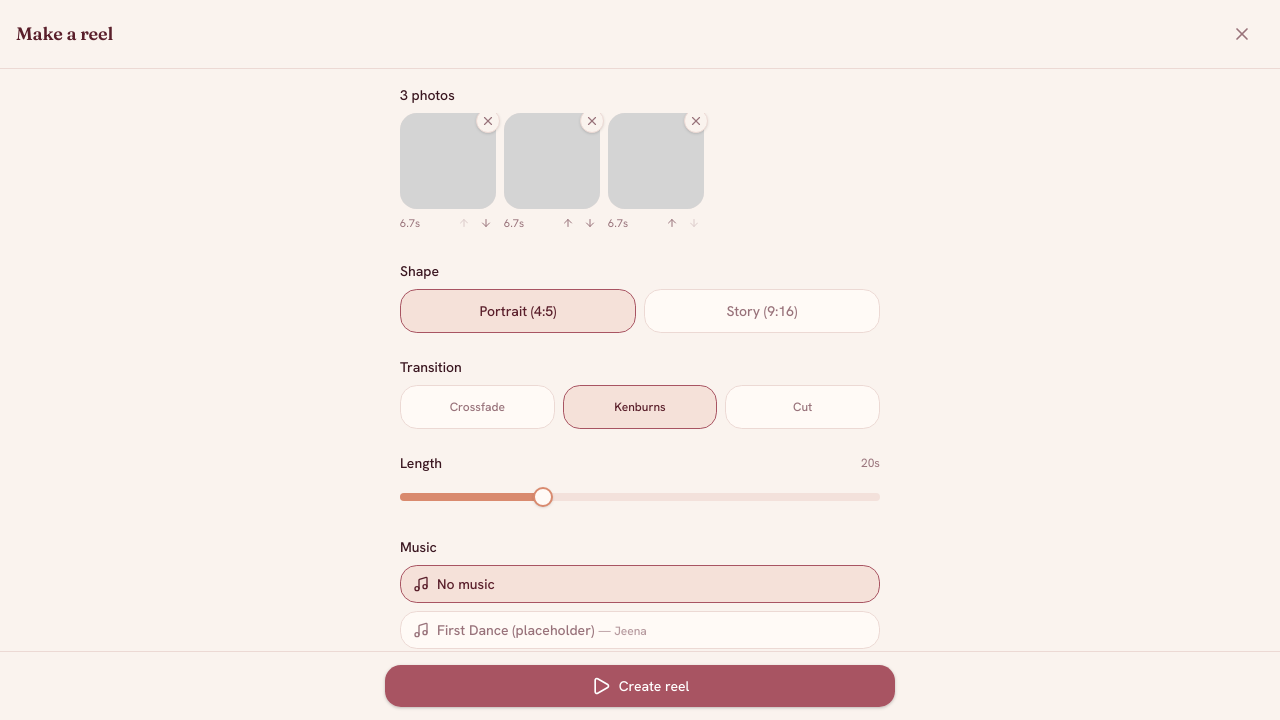
ReelMaker › moving the length slider updates the per-photo duration hint
Set the slider to "30" at (543,497), box [535, 489, 551, 505]
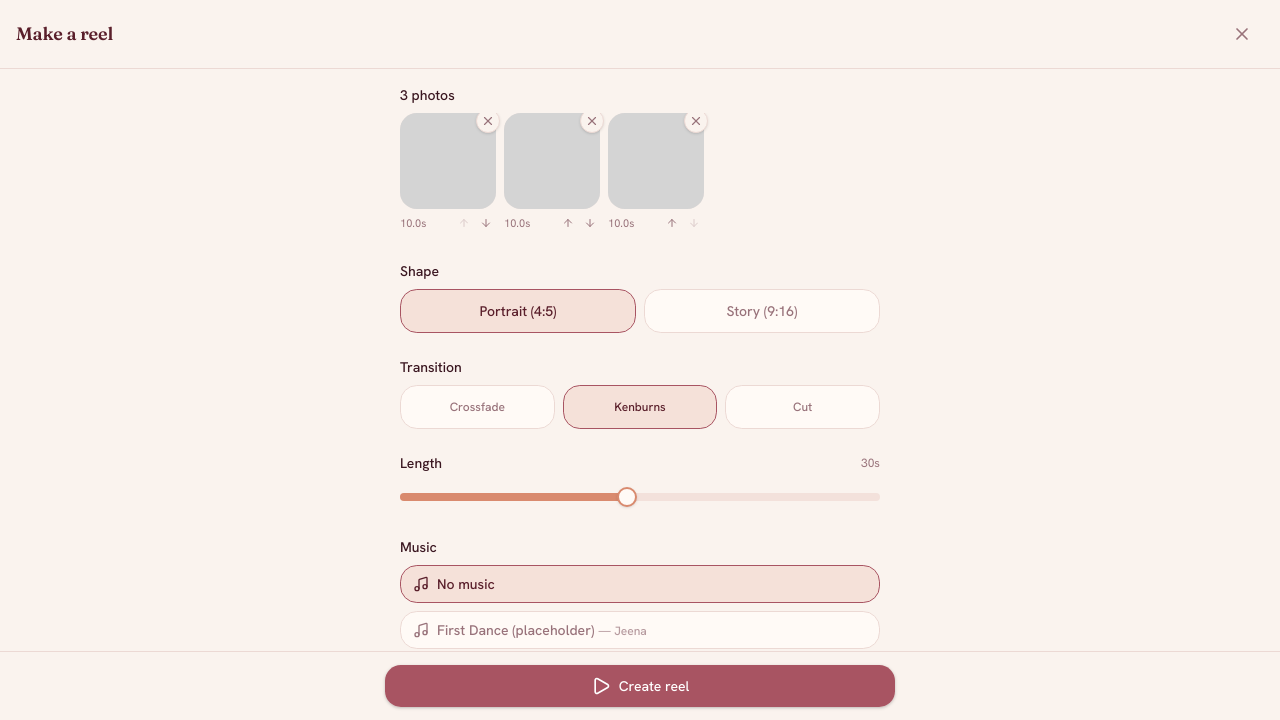
Expected: the text with test id "reel-length-label" reads "30s", [861, 455, 880, 471]
